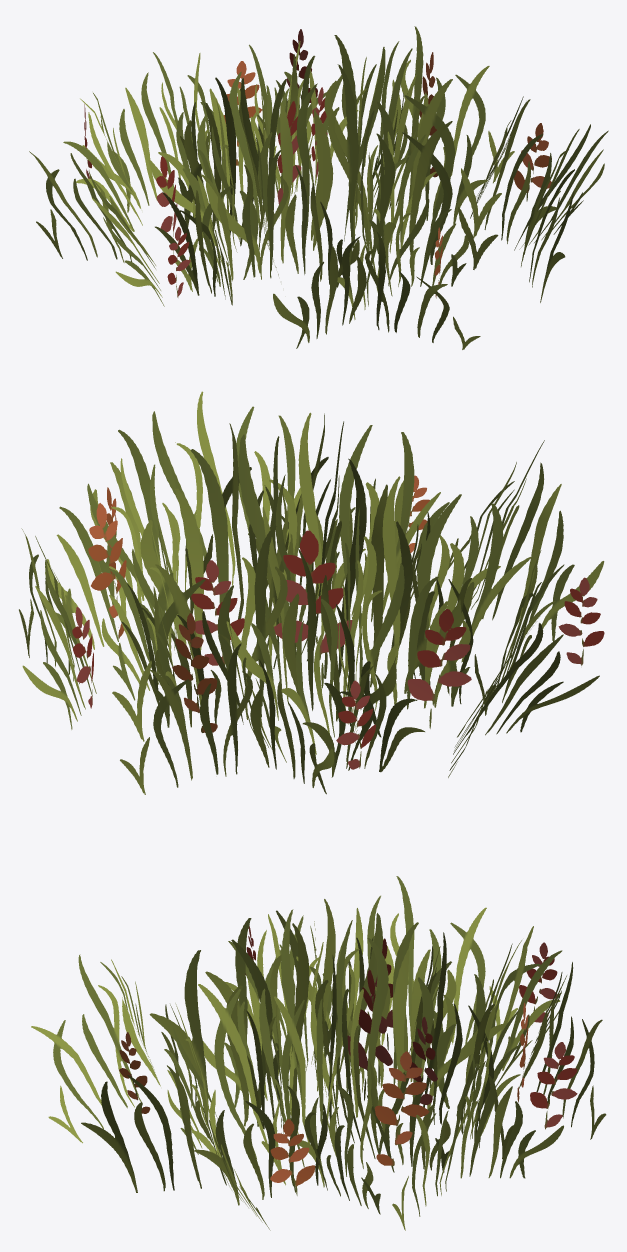
Rendered from Forest_Grass_6.fbx.
3 views of the same model, one above another, from view 1: azimuth 30°, elevation 25°; view 2: azimuth 150°, elevation 25°; view 3: azimuth 270°, elevation 25° (orthographic). The views are drawn at different scales.
Parts seen in each view (by area): view 1: Forest_Grass_6; view 2: Forest_Grass_6; view 3: Forest_Grass_6.
Part boxes in pixels (x1,y1,x2,y2): Forest_Grass_6: (29,26,608,349); Forest_Grass_6: (19,391,604,794); Forest_Grass_6: (31,876,606,1230).
Size of the model in its own units: 116 by 56.84 by 124.
1 material, 1 textured.
